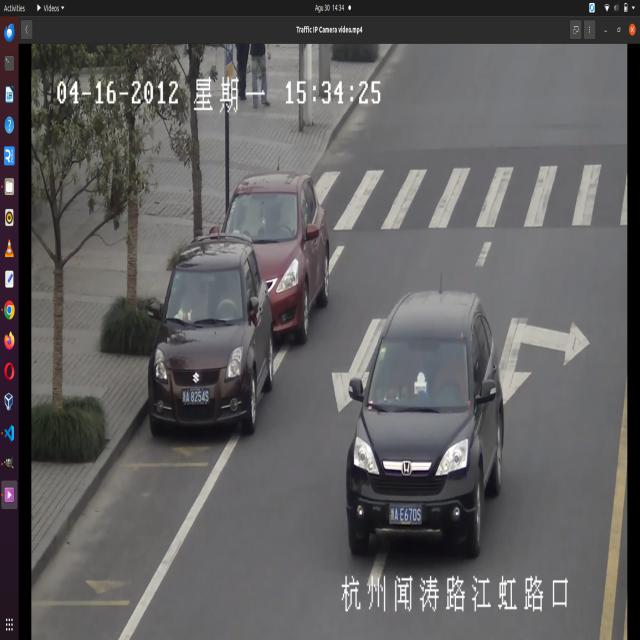person_without_seatbelt: (433, 348, 468, 404)
